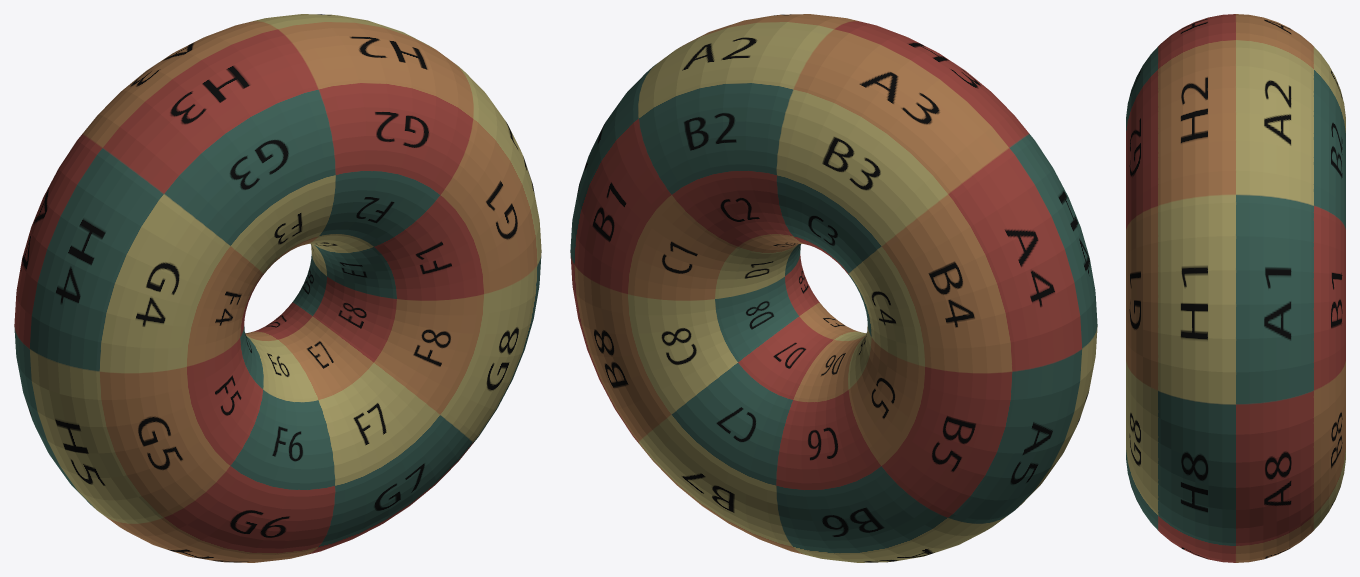
The model's file is texture_torus_R5_r26.glb.
3 views of the same model, side by side, from view 1: azimuth 30°, elevation 25°; view 2: azimuth 150°, elevation 25°; view 3: azimuth 270°, elevation 25° (orthographic). The views are drawn at different scales.
Parts seen in each view (by area): view 1: world; view 2: world; view 3: world.
Part boxes in pixels (x1,y1,x2,y2): world: [14, 14, 541, 562]; world: [570, 14, 1097, 562]; world: [1126, 14, 1345, 562].
Size of the model in its own units: 22.27 by 22.22 by 8.92.
Materials: 1 (1 with a texture image).
